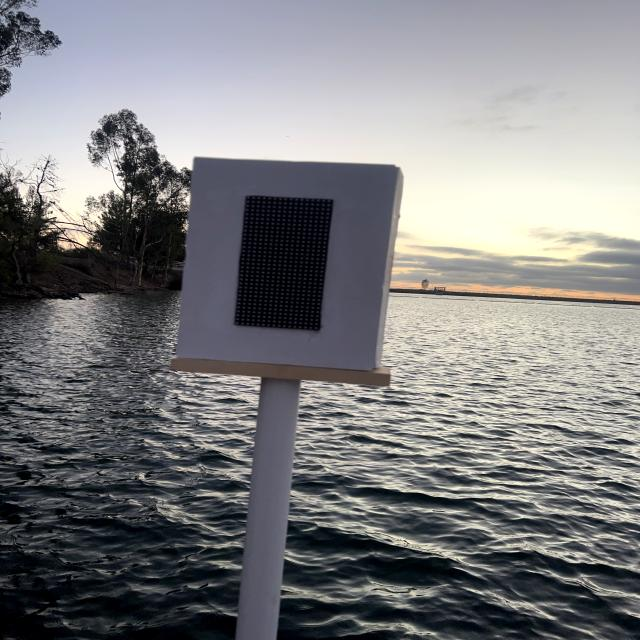led: (210, 171, 360, 367)
